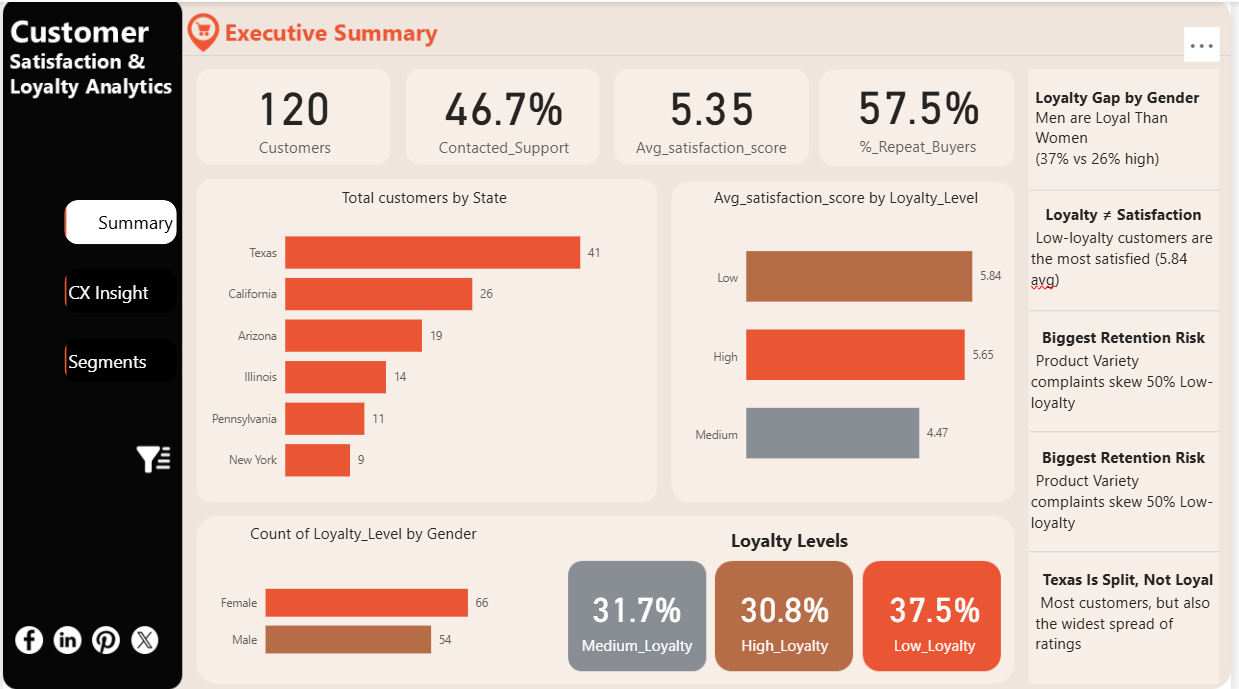

This screenshot's page, from the dashboard's own definition file:
{"tool":"powerbi","page":{"name":"Summary","canvas":[1280,720],"ordinal":0},"visuals":[{"type":"card","fields":{"Values":["All_Measures.Total customers"]},"box":[205.2,65.5,194.1,100.2],"z":0},{"type":"card","fields":{"Values":["All_Measures.Avg_satisfaction_score"]},"box":[640,65.5,197.1,100],"z":1000},{"type":"card","fields":{"Values":["All_Measures.%_High_Loyalty"]},"box":[739.3,590.3,150,100],"z":2000},{"type":"card","fields":{"Values":["All_Measures.%_Medium_Loyalty"]},"box":[585,590.3,151.4,100],"z":3000},{"type":"card","fields":{"Values":["All_Measures.%_Low_Loyalty"]},"box":[895,590.3,150,100],"z":4000},{"type":"card","fields":{"Values":["All_Measures.%_Who_Contacted_Support"]},"box":[427.1,65.5,190,100],"z":5000},{"type":"clusteredBarChart","fields":{"Category":["Customer_Dataset.Loyalty_Level"],"Y":["All_Measures.Avg_satisfaction_score"]},"box":[711.2,192.2,334.5,325.1],"z":6000},{"type":"clusteredBarChart","fields":{"Category":["Customer_Dataset.State"],"Y":["All_Measures.Total customers"]},"box":[204.8,192.2,468.9,325.1],"z":7000},{"type":"card","fields":{"Values":["All_Measures.%_Repeat_Buyers"]},"box":[858.6,65.5,190,98.6],"z":8000},{"type":"pageNavigator","box":[63.6,206.8,117.7,190.9],"z":11000},{"type":"textbox","box":[753.9,542.4,141.6,39.8],"z":12000},{"type":"actionButton","box":[132.9,453.3,48.5,46.9],"z":13000},{"type":"textbox","box":[1070.6,64.1,198.5,128.2],"z":15000},{"type":"clusteredBarChart","fields":{"Category":["Customer_Dataset.Gender"],"Y":["CountNonNull(Customer_Dataset.Loyalty_Level)"]},"box":[216.5,543,316.6,177.2],"z":16000},{"type":"textbox","box":[1066,204.8,203.2,117.2],"z":17000},{"type":"textbox","box":[1066,332.9,203.2,126.6],"z":17001},{"type":"textbox","box":[1066,458,203.2,128.2],"z":17002},{"type":"textbox","box":[1070.6,584.6,203.2,126.6],"z":17003}]}

Visuals, with their boxes on the page's 1280x720 design canvas (x1, y1, x2, y2). These are canvas units, not pixel positions in the 1239x689 screenshot, which may show the page scaled, cropped or inside an application window:
card - All_Measures.Total customers: (205,66,399,166)
card - All_Measures.Avg_satisfaction_score: (640,66,837,166)
card - All_Measures.%_High_Loyalty: (739,590,889,690)
card - All_Measures.%_Medium_Loyalty: (585,590,736,690)
card - All_Measures.%_Low_Loyalty: (895,590,1045,690)
card - All_Measures.%_Who_Contacted_Support: (427,66,617,166)
clusteredBarChart - Customer_Dataset.Loyalty_Level x All_Measures.Avg_satisfaction_score: (711,192,1046,517)
clusteredBarChart - Customer_Dataset.State x All_Measures.Total customers: (205,192,674,517)
card - All_Measures.%_Repeat_Buyers: (859,66,1049,164)
pageNavigator: (64,207,181,398)
textbox: (754,542,896,582)
actionButton: (133,453,181,500)
textbox: (1071,64,1269,192)
clusteredBarChart - Customer_Dataset.Gender x CountNonNull(Customer_Dataset.Loyalty_Level): (216,543,533,720)
textbox: (1066,205,1269,322)
textbox: (1066,333,1269,460)
textbox: (1066,458,1269,586)
textbox: (1071,585,1274,711)
